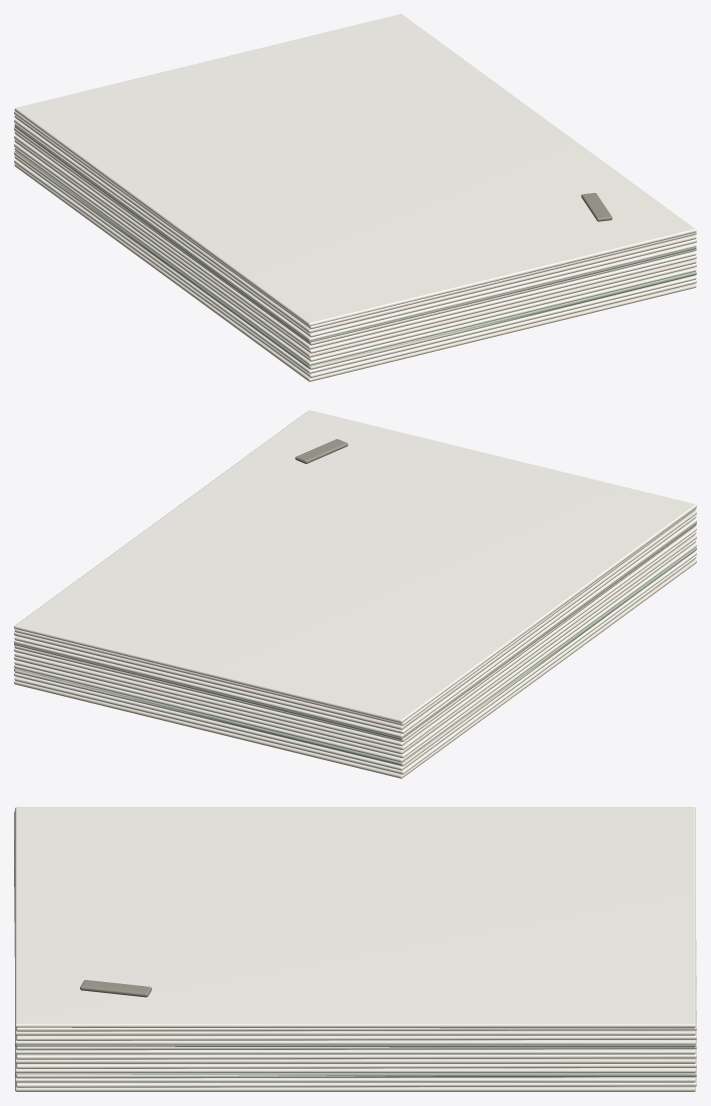
File: paper_stack.glb
The picture shows the model from 3 angles, top to bottom: view 1: azimuth 30°, elevation 25°; view 2: azimuth 150°, elevation 25°; view 3: azimuth 270°, elevation 25°; orthographic projection. The views are drawn at different scales.
Parts seen in each view (by area): view 1: Top page, Individual paper sheet.005, Individual paper sheet.011, Individual paper sheet.004, Individual paper sheet.008, Individual paper sheet, Individual paper sheet.001, Individual paper sheet.007, Individual paper sheet.012, Individual paper sheet.006, Individual paper sheet.002, Individual paper sheet.010 (+5 smaller); view 2: Top page, Individual paper sheet.001, Individual paper sheet.006, Individual paper sheet, Individual paper sheet.007, Individual paper sheet.004, Individual paper sheet.005, Individual paper sheet.008, Individual paper sheet.011, Individual paper sheet.012, Individual paper sheet.002, Individual paper sheet.010 (+6 smaller); view 3: Top page, Individual paper sheet.011, Individual paper sheet.004, Individual paper sheet.001, Individual paper sheet.007, Individual paper sheet.008, Individual paper sheet.002, Individual paper sheet.012, Individual paper sheet.006, Individual paper sheet, Individual paper sheet.005, Individual paper sheet.010 (+6 smaller).
Boxes of the visible parts, bbox=[...] form: Top page: bbox=[14, 14, 696, 326]; Individual paper sheet.005: bbox=[14, 143, 696, 361]; Individual paper sheet.011: bbox=[14, 119, 696, 337]; Individual paper sheet.004: bbox=[14, 147, 696, 365]; Individual paper sheet.008: bbox=[14, 131, 696, 349]; Individual paper sheet: bbox=[14, 164, 696, 381]; Individual paper sheet.001: bbox=[14, 159, 696, 377]; Individual paper sheet.007: bbox=[14, 135, 696, 353]; Individual paper sheet.012: bbox=[14, 115, 696, 333]; Individual paper sheet.006: bbox=[14, 139, 696, 357]; Individual paper sheet.002: bbox=[14, 155, 696, 373]; Individual paper sheet.010: bbox=[14, 123, 696, 340]; Top page: bbox=[14, 410, 696, 723]; Individual paper sheet.001: bbox=[14, 555, 696, 774]; Individual paper sheet.006: bbox=[14, 535, 696, 754]; Individual paper sheet: bbox=[14, 559, 696, 778]; Individual paper sheet.007: bbox=[14, 531, 696, 750]; Individual paper sheet.004: bbox=[14, 543, 696, 762]; Individual paper sheet.005: bbox=[14, 539, 696, 758]; Individual paper sheet.008: bbox=[14, 527, 696, 746]; Individual paper sheet.011: bbox=[14, 515, 696, 733]; Individual paper sheet.012: bbox=[14, 511, 696, 729]; Individual paper sheet.002: bbox=[14, 551, 696, 770]; Individual paper sheet.010: bbox=[14, 519, 696, 737]; Top page: bbox=[15, 807, 695, 1028]; Individual paper sheet.011: bbox=[14, 831, 696, 1040]; Individual paper sheet.004: bbox=[15, 1063, 695, 1073]; Individual paper sheet.001: bbox=[14, 877, 696, 1087]; Individual paper sheet.007: bbox=[14, 849, 696, 1059]; Individual paper sheet.008: bbox=[15, 1046, 695, 1054]; Individual paper sheet.002: bbox=[15, 1076, 695, 1082]; Individual paper sheet.012: bbox=[15, 1027, 695, 1035]; Individual paper sheet.006: bbox=[15, 1053, 695, 1063]; Individual paper sheet: bbox=[15, 1081, 695, 1091]; Individual paper sheet.005: bbox=[14, 859, 696, 1068]; Individual paper sheet.010: bbox=[15, 1035, 695, 1044].
Bounding box in the file's own units: 0.2212 × 0.0349 × 0.2909.
